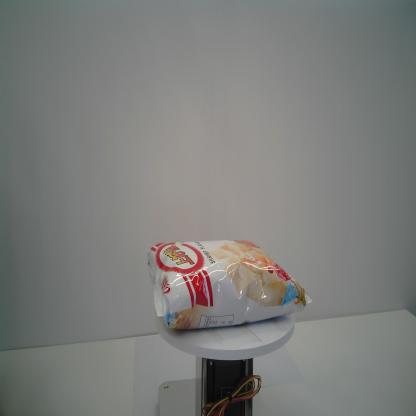Puffed Food: (146, 238, 313, 332)
